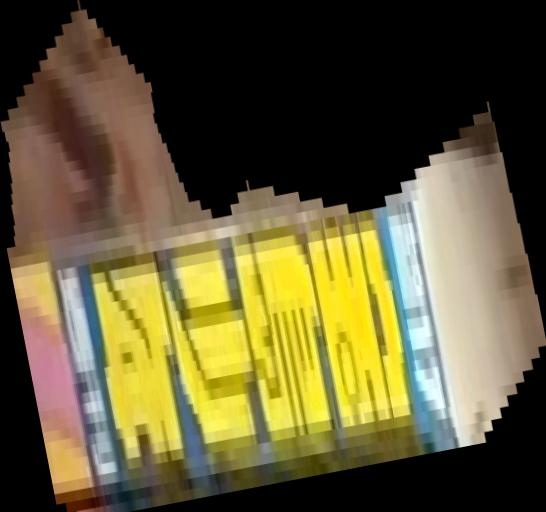flat: (1, 1, 546, 512)
